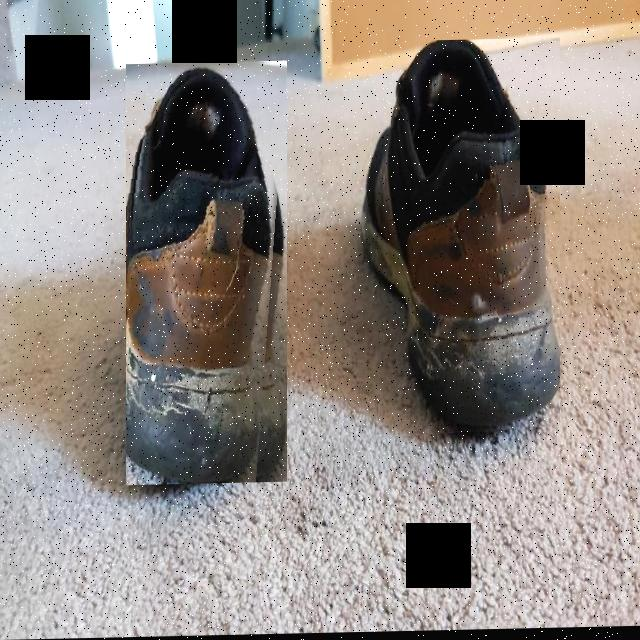shoe: (358, 40, 560, 441), (126, 62, 287, 486)
